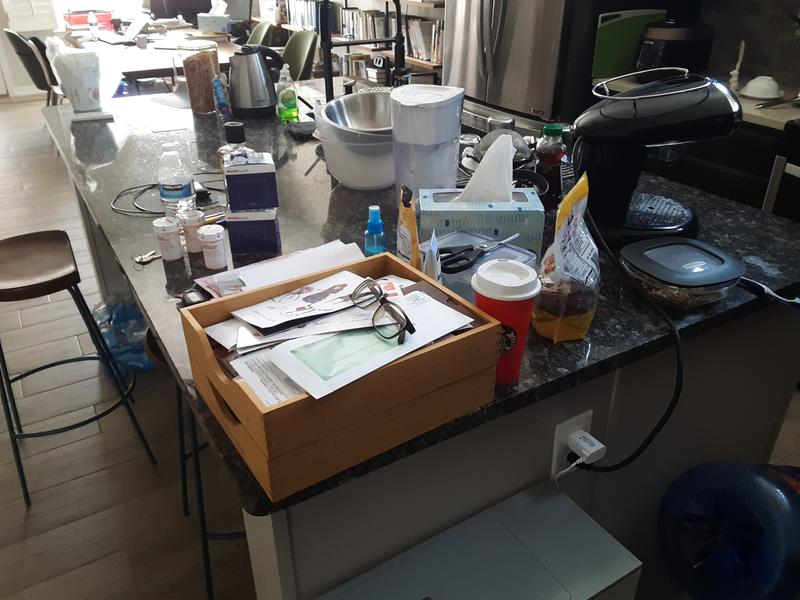glasses: (349, 275, 417, 346)
